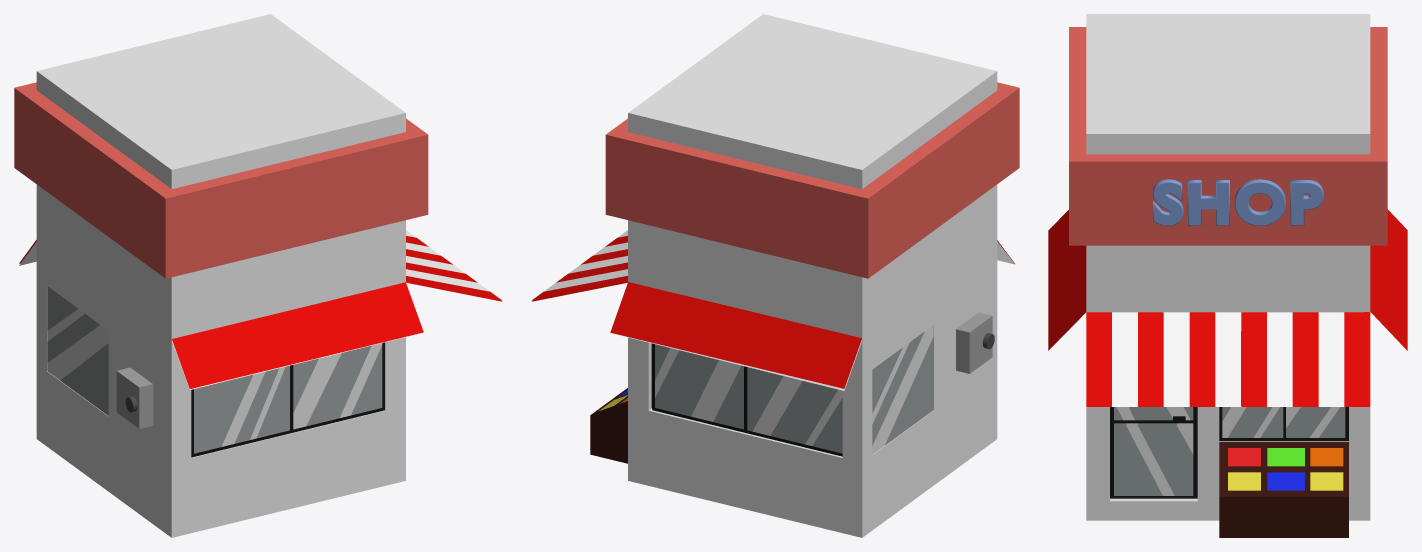
File: ShopIntérieur.fbx
3 renders of one model, left to right at view 1: azimuth 30°, elevation 25°; view 2: azimuth 150°, elevation 25°; view 3: azimuth 270°, elevation 25°, orthographic. The views are drawn at different scales.
Parts seen in each view (by area): view 1: Batiment, Toit, Aeration Cube; view 2: Batiment, Toit, Aeration Cube; view 3: Batiment, Toit, Porte, SHOP.
Part boxes in pixels (x1=…): Batiment: x1=19, y1=14, x2=501, y2=537; Toit: x1=14, y1=82, x2=428, y2=278; Aeration Cube: x1=116, y1=367, x2=153, y2=428; Batiment: x1=532, y1=14, x2=1014, y2=537; Toit: x1=605, y1=82, x2=1019, y2=278; Aeration Cube: x1=956, y1=312, x2=992, y2=373; Batiment: x1=1048, y1=14, x2=1407, y2=537; Toit: x1=1069, y1=27, x2=1387, y2=245; Porte: x1=1110, y1=407, x2=1197, y2=498; SHOP: x1=1152, y1=179, x2=1323, y2=225.
Size of the model in its own units: 720 by 726 by 612.
